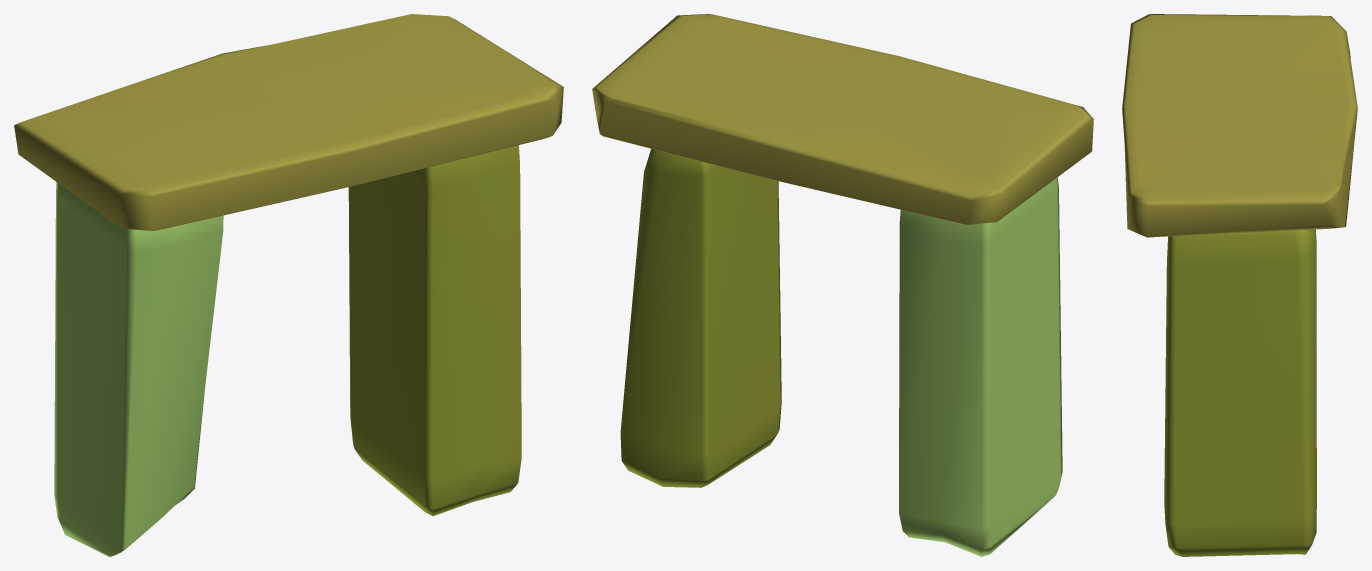
Rendered from SM_ChurnStand_Stone.glb.
The picture shows the model from 3 angles, left to right: view 1: azimuth 30°, elevation 25°; view 2: azimuth 150°, elevation 25°; view 3: azimuth 270°, elevation 25°; orthographic projection. The views are drawn at different scales.
Visible parts, largest first — view 1: SM_ChurnStand_Stone; view 2: SM_ChurnStand_Stone; view 3: SM_ChurnStand_Stone.
Part boxes in pixels (bbox=[...]): SM_ChurnStand_Stone: bbox=[14, 14, 563, 556]; SM_ChurnStand_Stone: bbox=[592, 14, 1093, 556]; SM_ChurnStand_Stone: bbox=[1122, 14, 1357, 556].
Size of the model in its own units: 1.5 by 1.35 by 0.7696.
